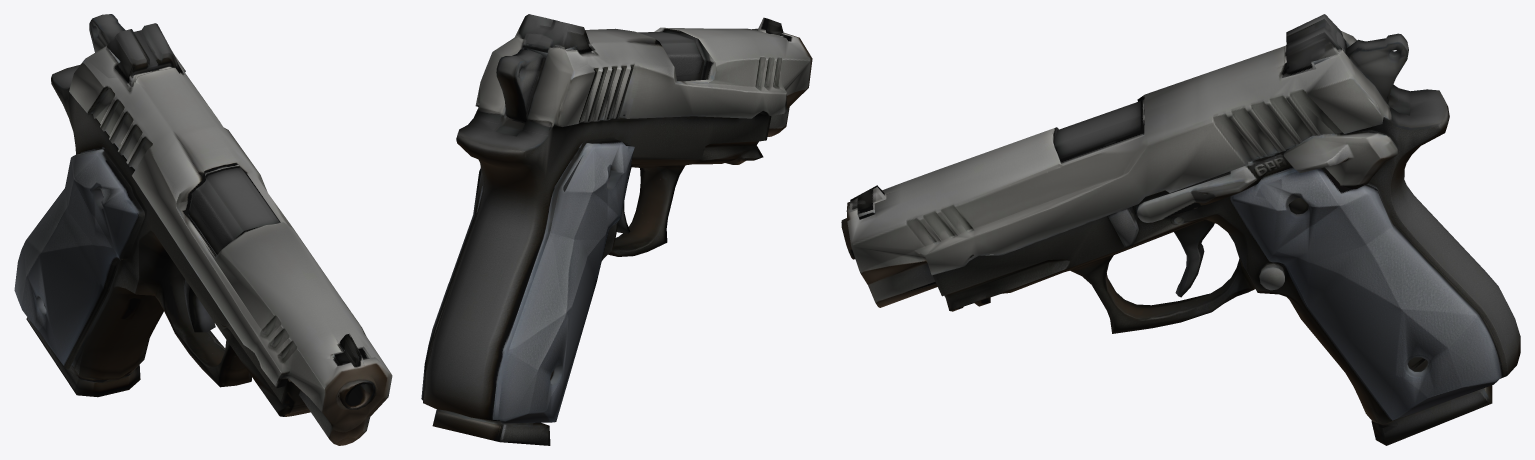
The model's file is pistol.glb.
The picture shows the model from 3 angles, left to right: view 1: azimuth 30°, elevation 25°; view 2: azimuth 150°, elevation 25°; view 3: azimuth 270°, elevation 25°; orthographic projection. The views are drawn at different scales.
Parts seen in each view (by area): view 1: tripo_node_a7a57ddb-fe76-4930-ad5f-45db16103c51; view 2: tripo_node_a7a57ddb-fe76-4930-ad5f-45db16103c51; view 3: tripo_node_a7a57ddb-fe76-4930-ad5f-45db16103c51.
Part boxes in pixels (left/top/right/bottom): tripo_node_a7a57ddb-fe76-4930-ad5f-45db16103c51: left=14, top=14, right=392, bottom=445; tripo_node_a7a57ddb-fe76-4930-ad5f-45db16103c51: left=421, top=14, right=812, bottom=445; tripo_node_a7a57ddb-fe76-4930-ad5f-45db16103c51: left=841, top=14, right=1520, bottom=445.
Size of the model in its own units: 0.2231 by 0.6646 by 0.9995.
1 material, 1 textured.
